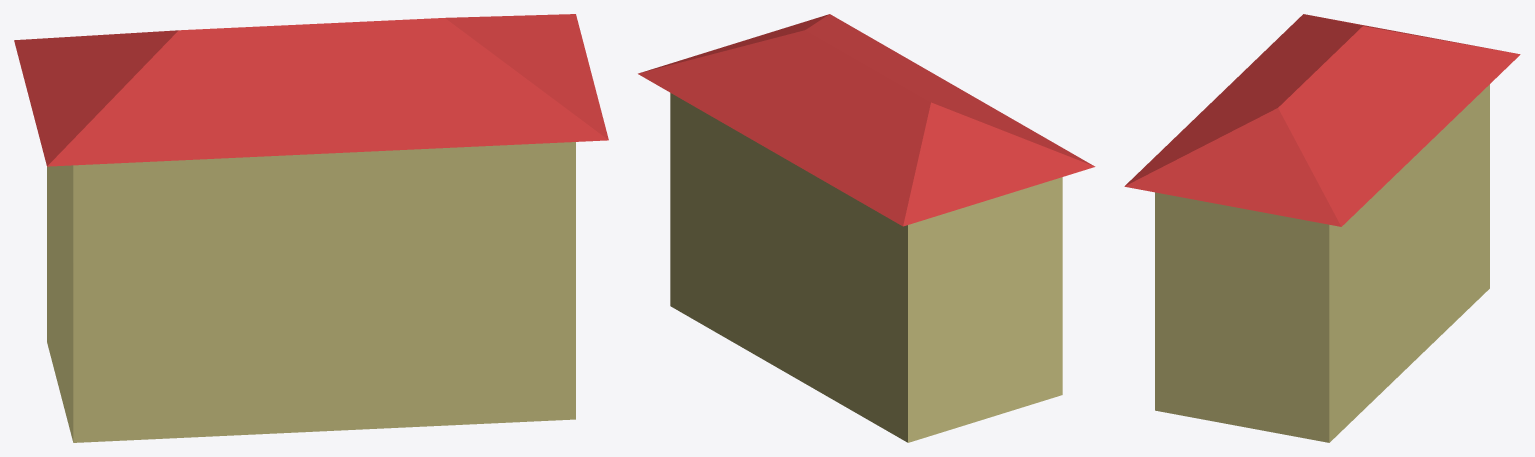
3 views of the same model, side by side, from view 1: azimuth 30°, elevation 25°; view 2: azimuth 150°, elevation 25°; view 3: azimuth 270°, elevation 25° (orthographic). The views are drawn at different scales.
Visible parts, largest first — view 1: group_5, group_3, group_4; view 2: group_5, group_3, group_4; view 3: group_5, group_3, group_4.
Boxes of the visible parts, left/top/right/bottom form: group_5: left=47, top=142, right=575, bottom=442; group_3: left=14, top=14, right=607, bottom=166; group_4: left=550, top=14, right=608, bottom=140; group_5: left=670, top=93, right=1062, bottom=442; group_3: left=638, top=14, right=1095, bottom=226; group_4: left=640, top=14, right=997, bottom=205; group_5: left=1155, top=84, right=1489, bottom=442; group_3: left=1125, top=14, right=1520, bottom=226; group_4: left=1124, top=163, right=1341, bottom=226.
Bounding box in the file's own units: 21.44 × 16.88 × 13.25.
